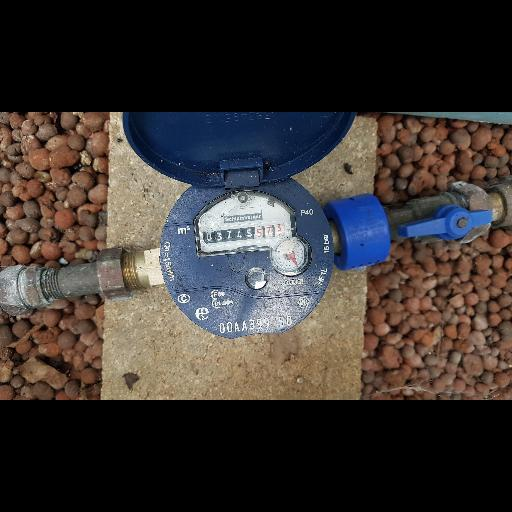0: (205, 231, 213, 244)
3: (215, 230, 224, 243), (275, 224, 284, 237)
4: (235, 227, 244, 241)
5: (245, 227, 254, 240), (255, 226, 264, 239)
7: (225, 228, 234, 242), (265, 225, 274, 238)
border_water_meter_number: (201, 221, 289, 247)
